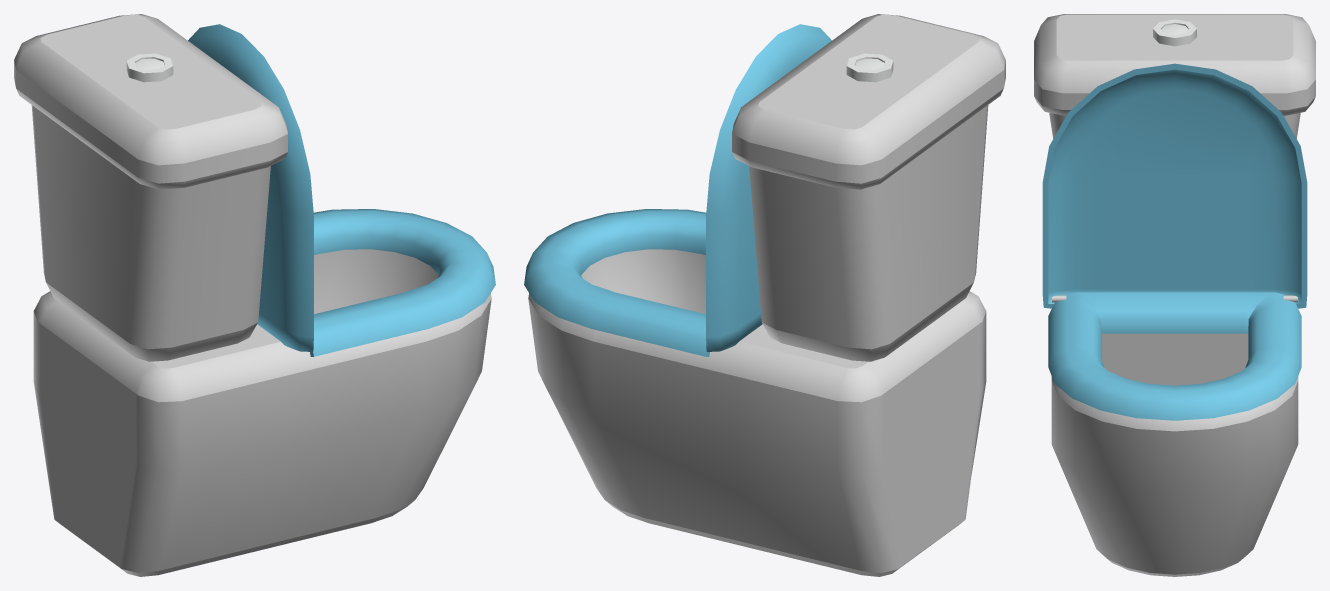
File: Toilet_Seat.glb
3 views of the same model, side by side, from view 1: azimuth 30°, elevation 25°; view 2: azimuth 150°, elevation 25°; view 3: azimuth 270°, elevation 25° (orthographic). The views are drawn at different scales.
Visible parts, largest first — view 1: Toilet; view 2: Toilet; view 3: Toilet.
Part boxes in pixels (x1,y1,x2,y2): Toilet: (14, 14, 495, 576); Toilet: (524, 14, 1005, 576); Toilet: (1034, 14, 1315, 576).
Bounding box in the file's own units: 0.6221 × 0.7111 × 0.4121.
3 materials, 1 textured.
